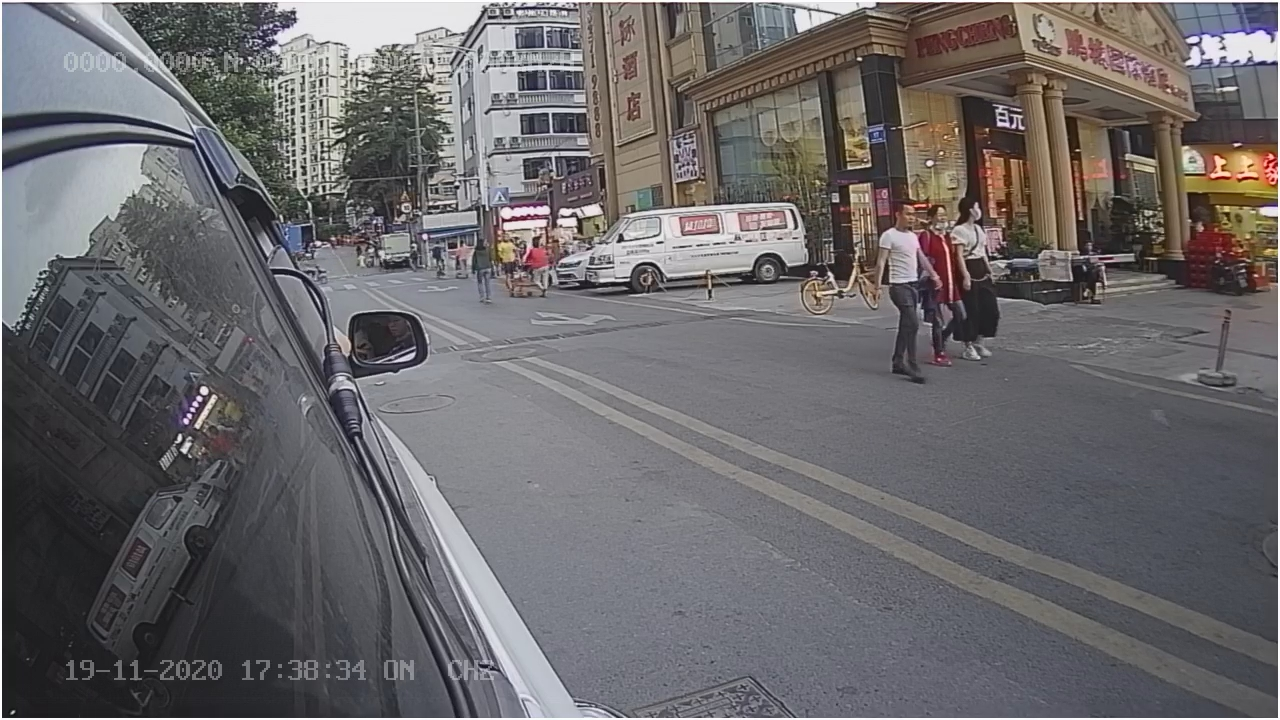person: (868, 198, 945, 392)
